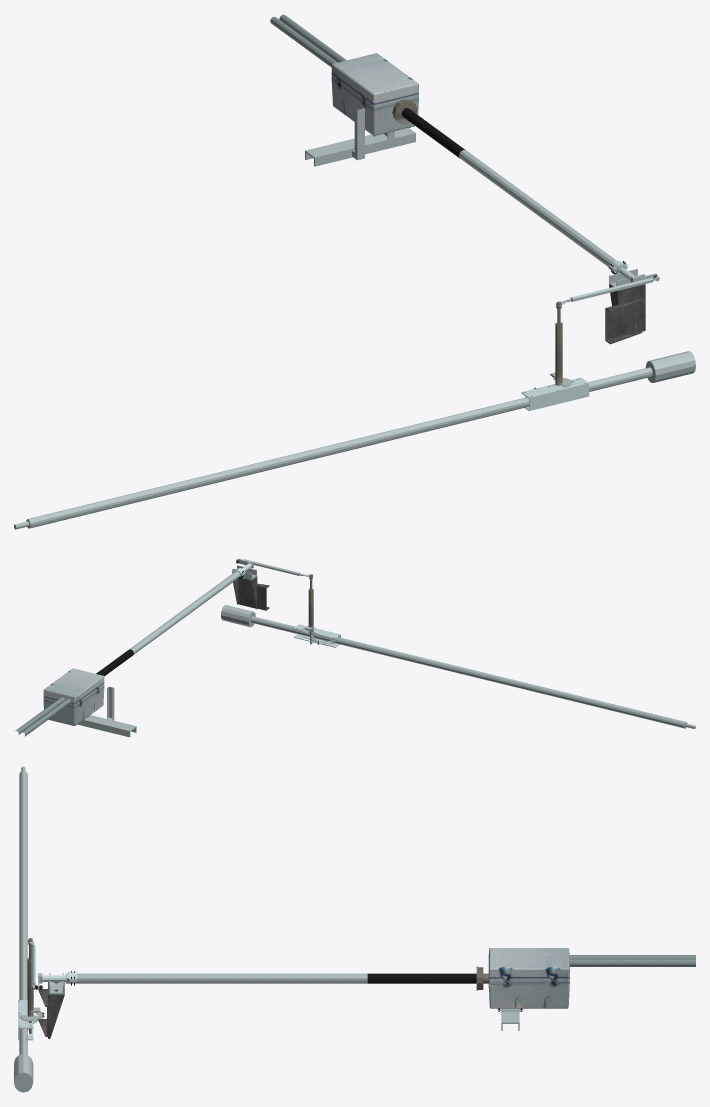
Rendered from glkg-11m32000237461050c-geode.glb.
3 renders of one model, top to bottom at view 1: azimuth 30°, elevation 25°; view 2: azimuth 150°, elevation 25°; view 3: azimuth 270°, elevation 25°, orthographic. The views are drawn at different scales.
Visible parts, largest first — view 1: Node; view 2: Node; view 3: Node.
Part boxes in pixels (x1,y1,x2,y2): Node: (14, 14, 695, 529); Node: (15, 558, 695, 737); Node: (14, 766, 695, 1092).
Size of the model in its own units: 5.31 by 0.8811 by 4.87.
10 materials, 10 textured.
